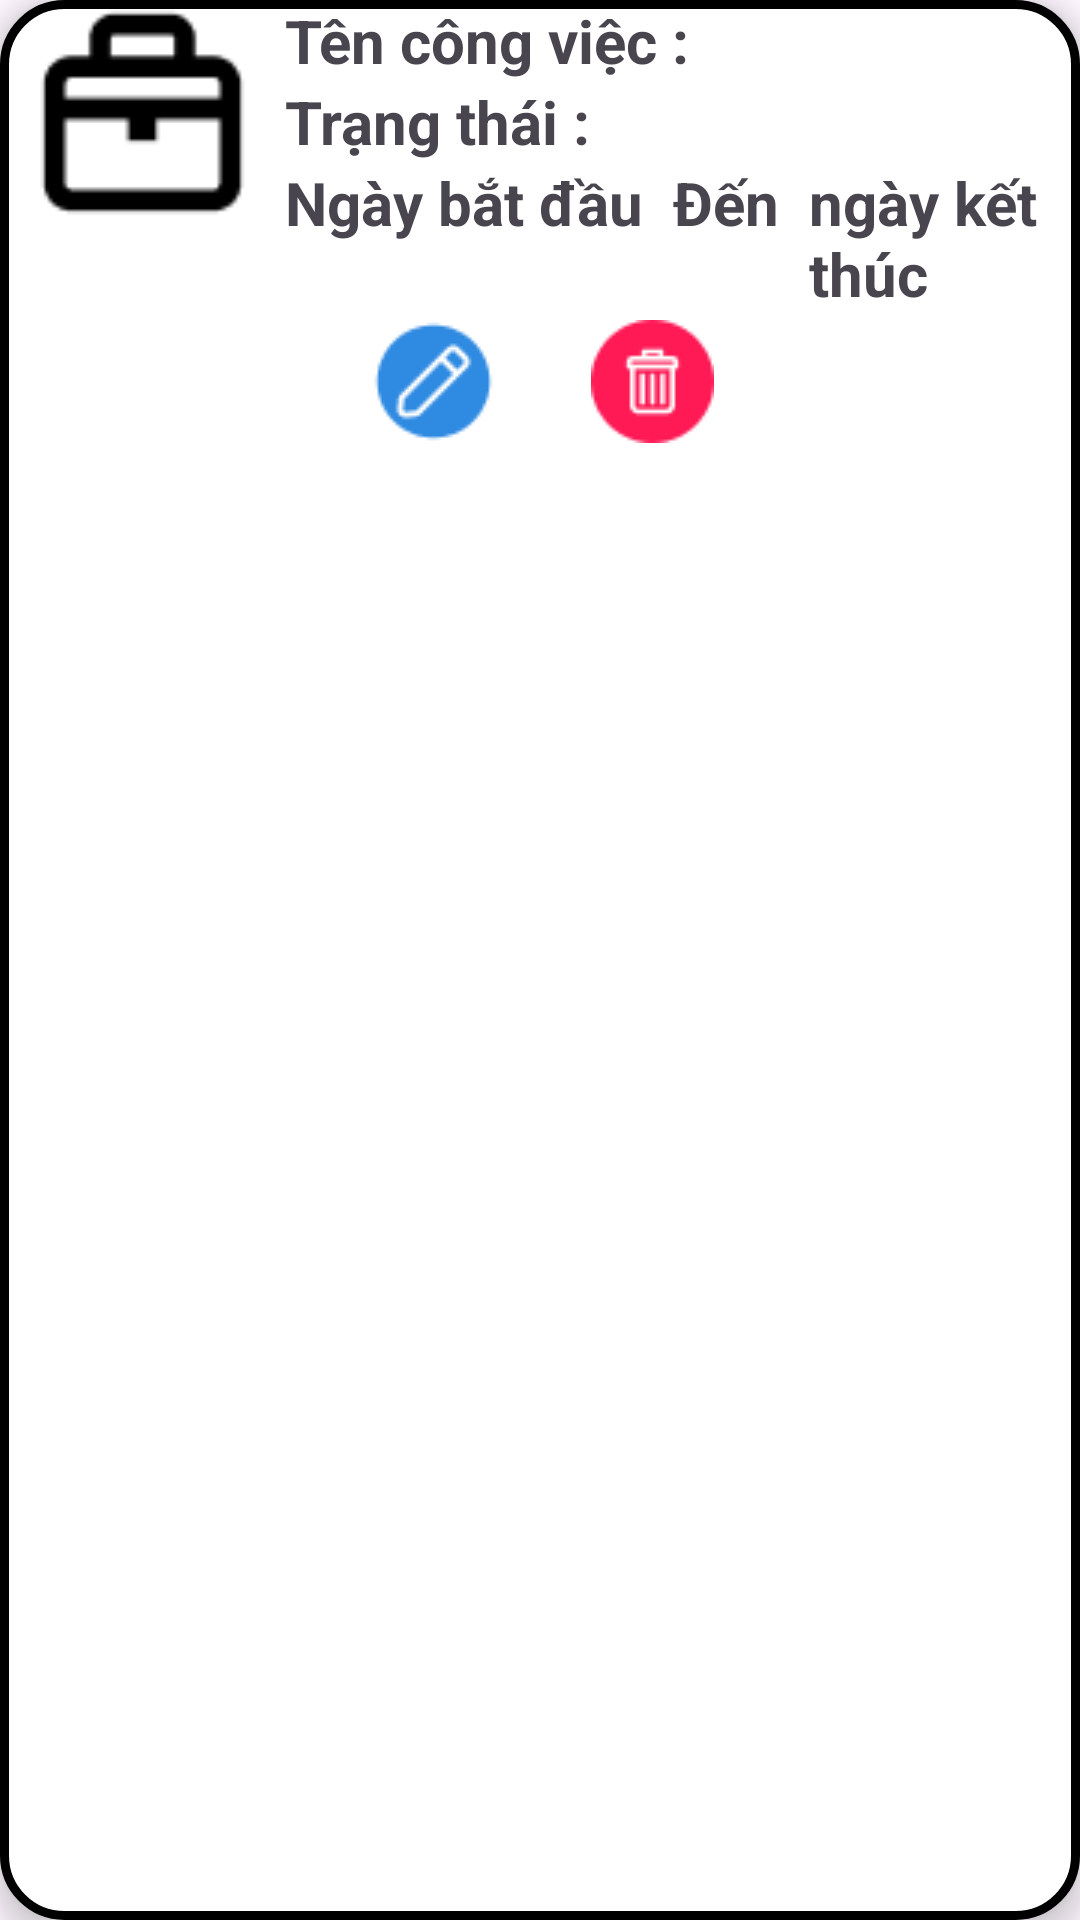

Point at icon controls on the screen. Image size 1080w x 1920h, points as (x,y).
pajamas work: (142,112)
